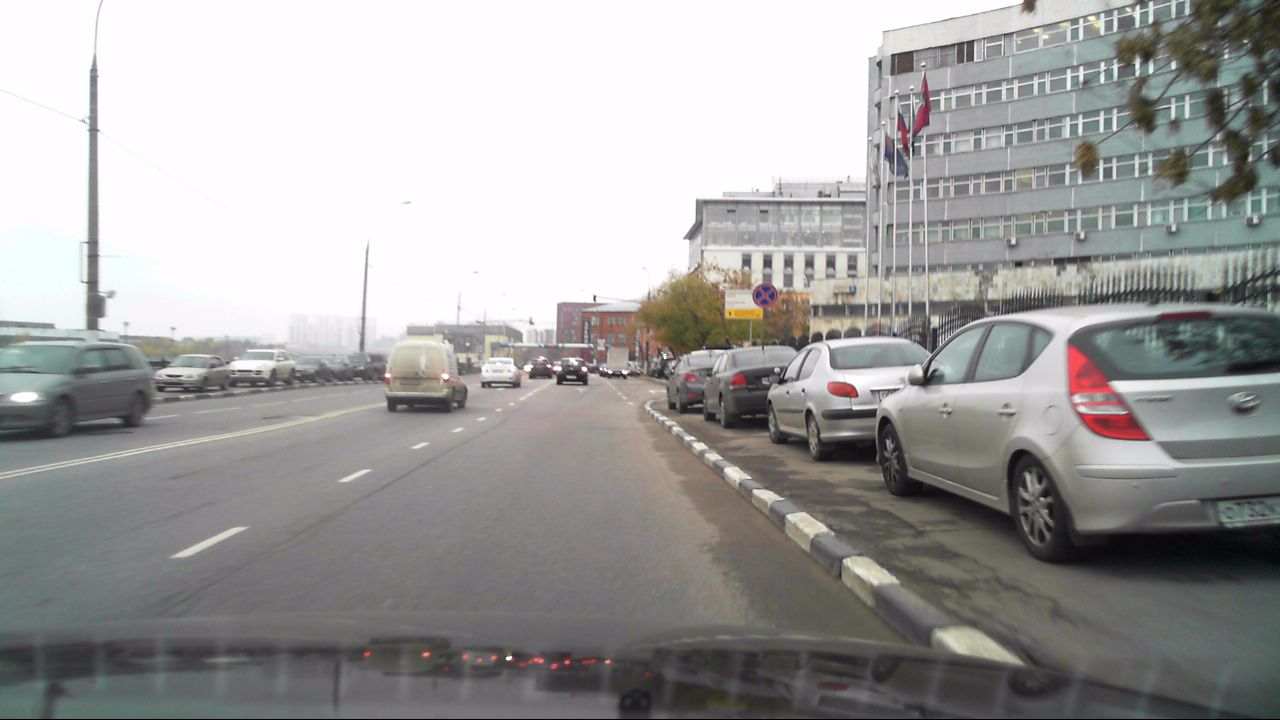No Parking: (751, 281, 777, 308)
